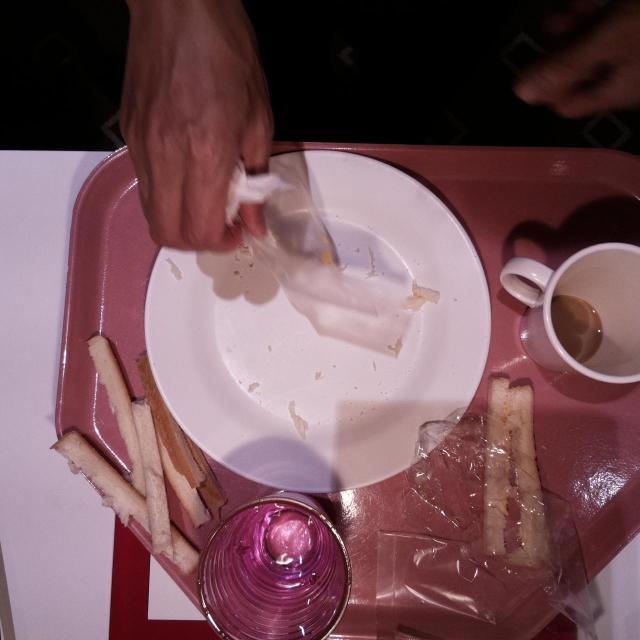Bread: (86, 332, 224, 576), (485, 373, 555, 573)
